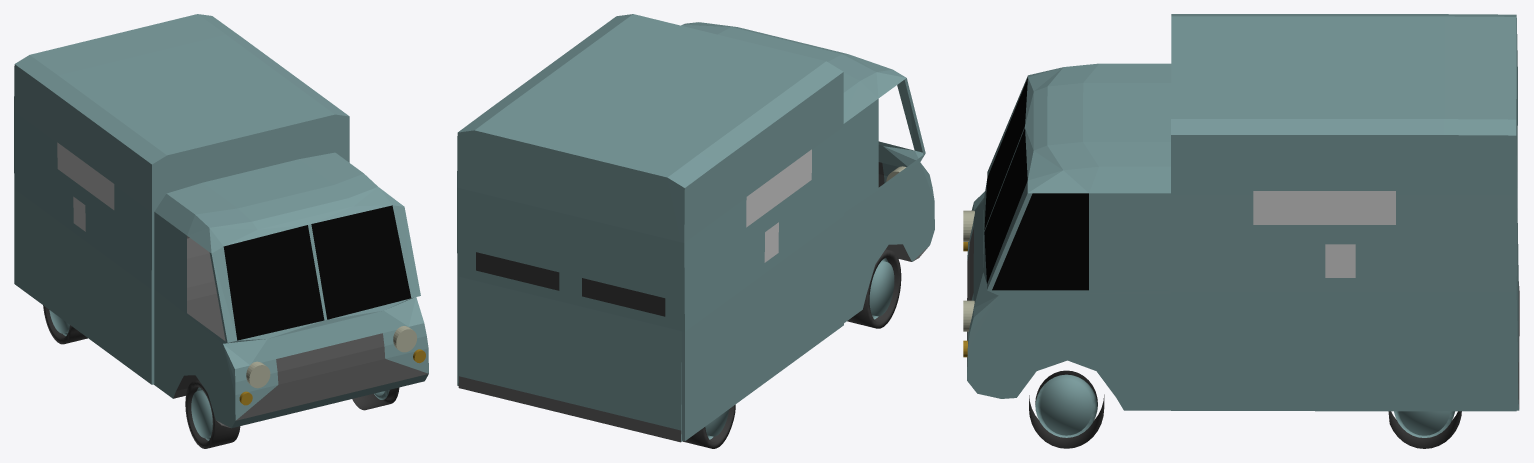
File: austin-morris-ea.dae
The picture shows the model from 3 angles, left to right: view 1: azimuth 30°, elevation 25°; view 2: azimuth 150°, elevation 25°; view 3: azimuth 270°, elevation 25°; orthographic projection. The views are drawn at different scales.
Parts seen in each view (by area): view 1: Cube_001, Plane_001, Cylinder, Cylinder_001; view 2: Cube_001, Plane_001, Plane_003, Plane_002; view 3: Cube_001, Plane, Plane_005.
Boxes of the visible parts, x1=… form: Cube_001: x1=14, y1=14, x2=428, y2=448; Plane_001: x1=57, y1=142, x2=114, y2=209; Cylinder: x1=246, y1=361, x2=270, y2=388; Cylinder_001: x1=393, y1=326, x2=417, y2=352; Cube_001: x1=457, y1=14, x2=934, y2=448; Plane_001: x1=746, y1=149, x2=811, y2=227; Plane_003: x1=476, y1=252, x2=559, y2=290; Plane_002: x1=582, y1=278, x2=665, y2=316; Cube_001: x1=967, y1=14, x2=1519, y2=448; Plane: x1=1253, y1=191, x2=1395, y2=224; Plane_005: x1=1325, y1=244, x2=1355, y2=277.
Size of the model in its own units: 1.37 by 2.52 by 1.62.
